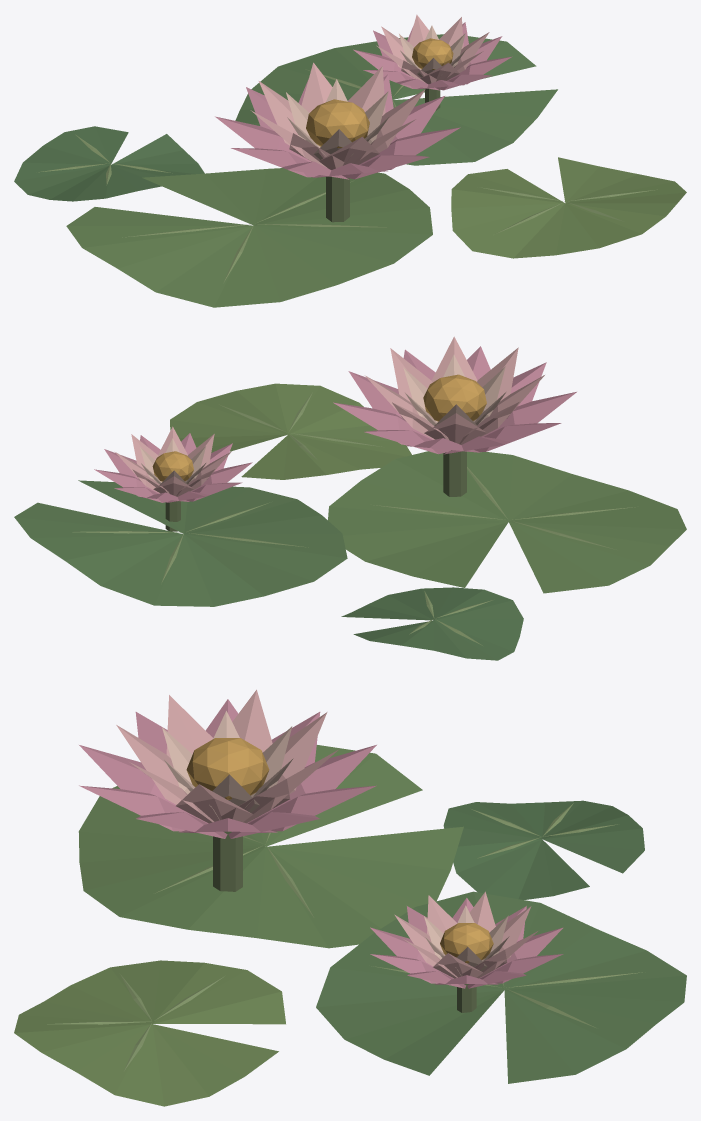
File: waterside-lily.glb
The picture shows the model from 3 angles, top to bottom: view 1: azimuth 30°, elevation 25°; view 2: azimuth 150°, elevation 25°; view 3: azimuth 270°, elevation 25°; orthographic projection. The views are drawn at different scales.
Parts seen in each view (by area): view 1: SculptedModel; view 2: SculptedModel; view 3: SculptedModel.
Boxes of the visible parts, bbox=[...] form: SculptedModel: bbox=[14, 14, 686, 307]; SculptedModel: bbox=[14, 336, 686, 660]; SculptedModel: bbox=[14, 689, 686, 1106].
Bounding box in the file's own units: 0.6262 × 0.158 × 0.5354.
